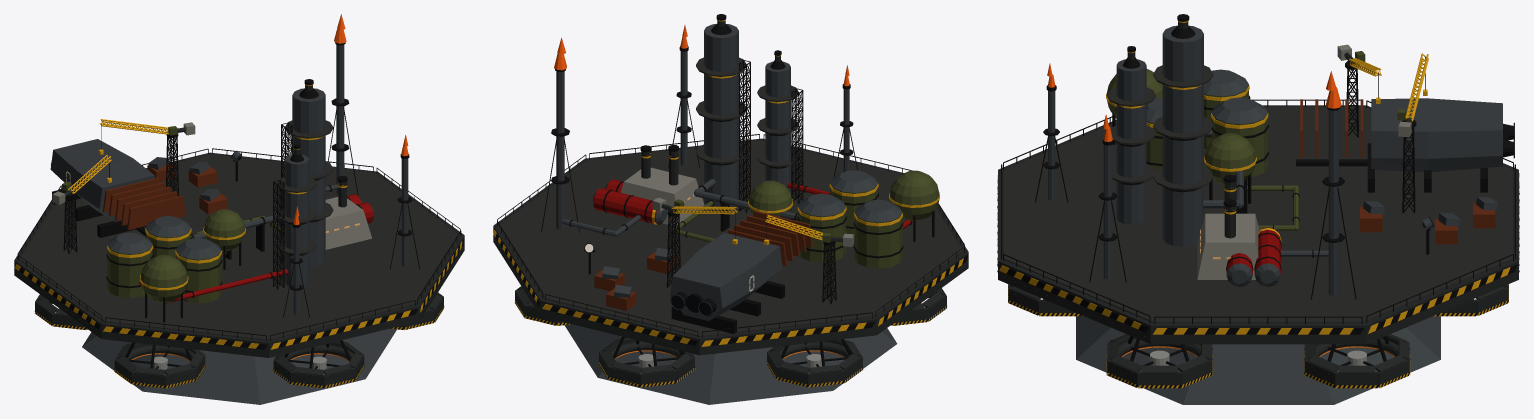
Rendered from station_industrial.obj.
3 views of the same model, side by side, from view 1: azimuth 30°, elevation 25°; view 2: azimuth 150°, elevation 25°; view 3: azimuth 270°, elevation 25° (orthographic). The views are drawn at different scales.
Visible parts, largest first — view 1: station_industrial; view 2: station_industrial; view 3: station_industrial.
Part boxes in pixels (<box>): station_industrial: <box>14,14,464,404</box>; station_industrial: <box>493,14,968,404</box>; station_industrial: <box>997,14,1519,404</box>.
Bounding box in the file's own units: 1400 × 1035 × 1400.
1 material, 1 textured.
